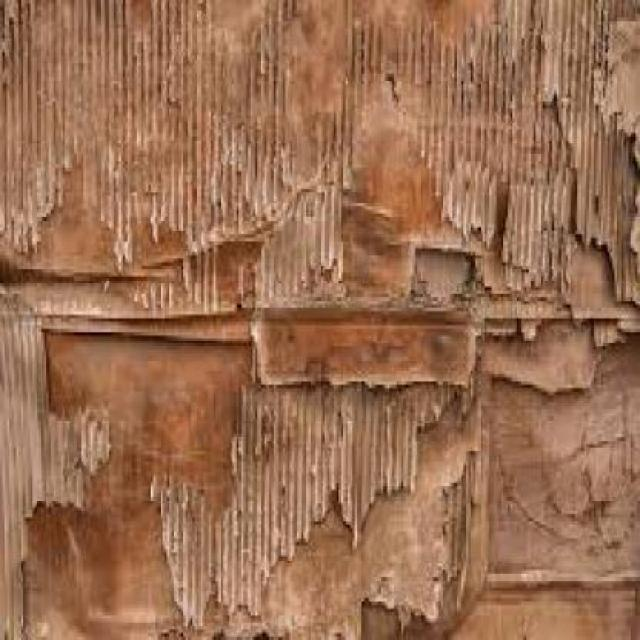CARDBOARD: (0, 0, 638, 637), (0, 303, 638, 637), (0, 0, 638, 309)
